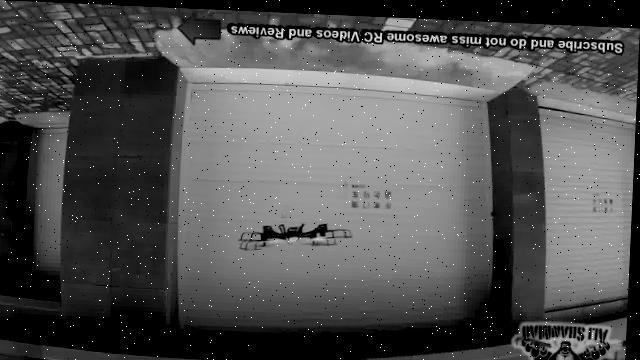drone: (245, 210, 359, 259)
